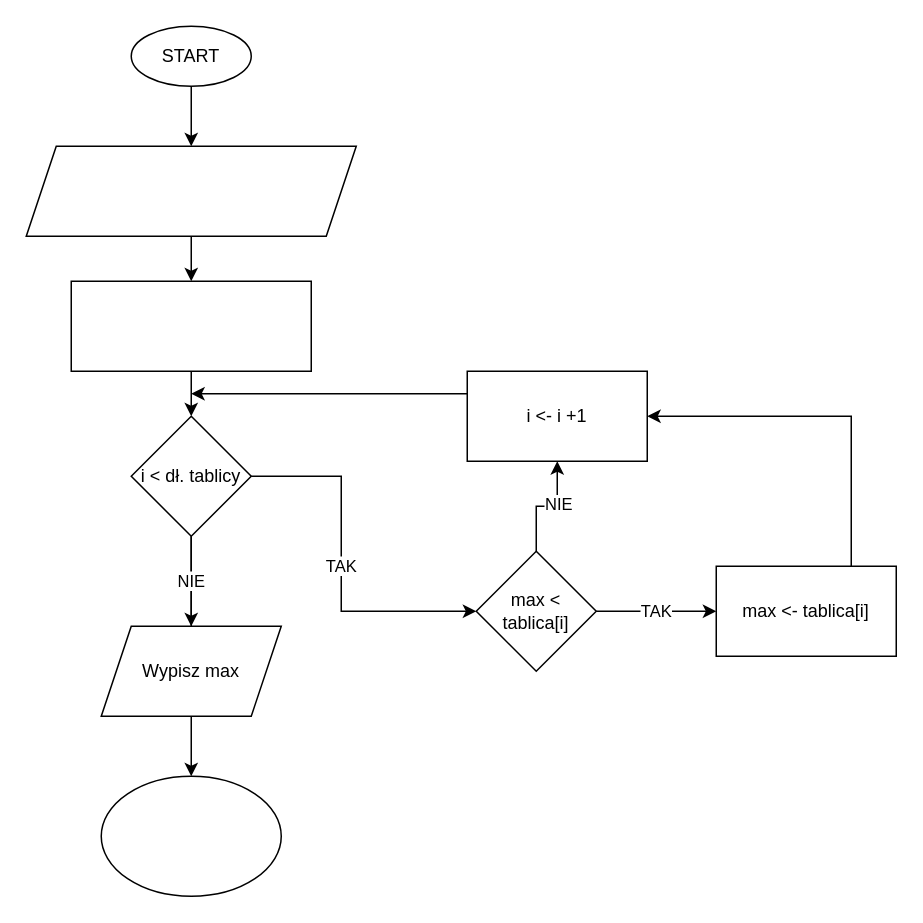
The diagram is 923 pixels wide and 923 high, and some of its shapes have lost their labels. Each missing label, with the centre of its shape:
"KONIEC" goes at point 190,835.
"max <-pierwszy element tablicy (indeks 0) i <-1" goes at point 190,325.
"Wczytaj tablicę 10, liczb i zapisz w zmiennej tablica" goes at point 190,190.
